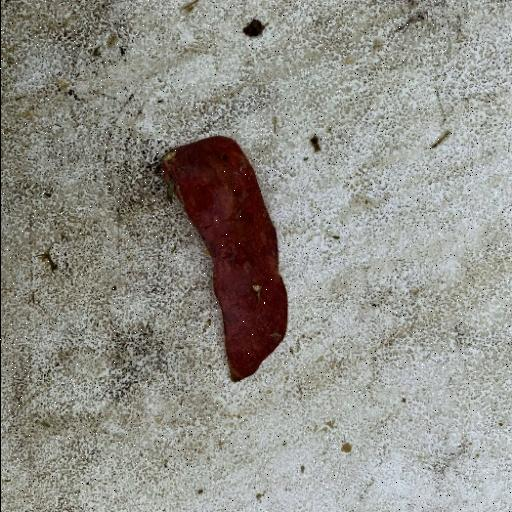Waste: (156, 134, 290, 383)
